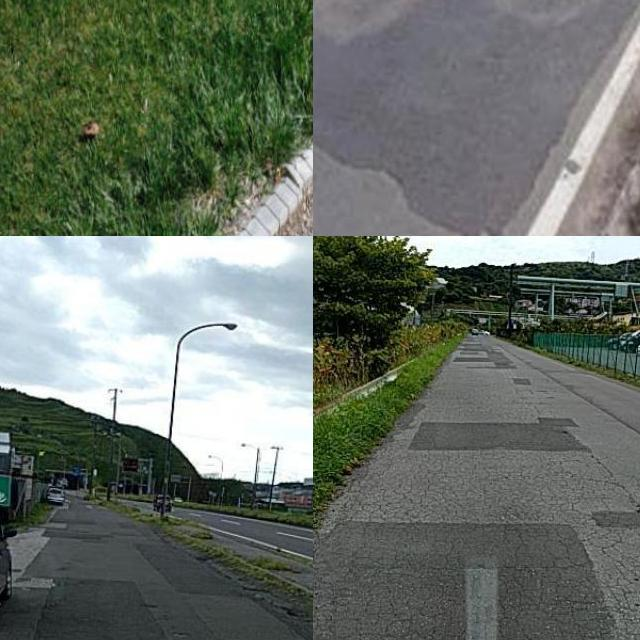Sambungan: (313, 0, 637, 236), (313, 520, 632, 640), (413, 416, 590, 451)
